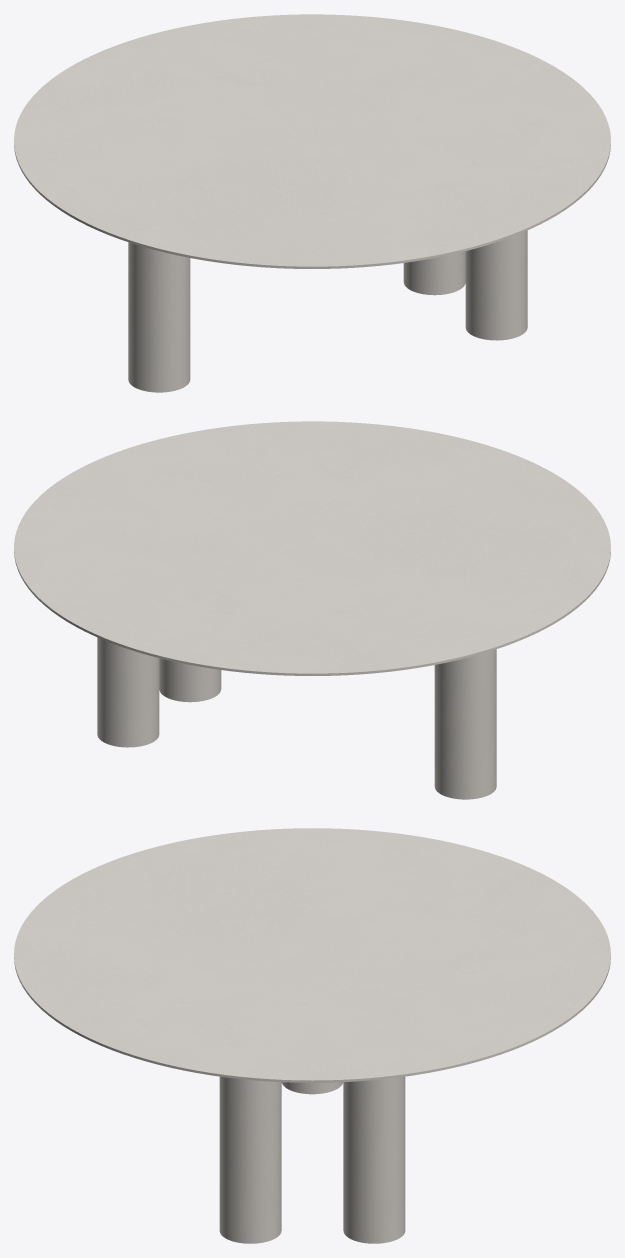
Rendered from pearlwhite_round_facet_cylinder.glb.
3 renders of one model, top to bottom at view 1: azimuth 30°, elevation 25°; view 2: azimuth 150°, elevation 25°; view 3: azimuth 270°, elevation 25°, orthographic.
Parts seen in each view (by area): view 1: facet_round, cylinder; view 2: facet_round, cylinder; view 3: facet_round, cylinder.
Boxes of the visible parts, bbox=[...] form: facet_round: bbox=[14, 14, 610, 268]; cylinder: bbox=[128, 230, 527, 392]; facet_round: bbox=[14, 421, 610, 675]; cylinder: bbox=[97, 637, 496, 799]; facet_round: bbox=[14, 828, 610, 1082]; cylinder: bbox=[219, 1076, 405, 1243].
Size of the model in its own units: 6.75 by 2.51 by 6.75.
Materials: 1 (1 with a texture image).
